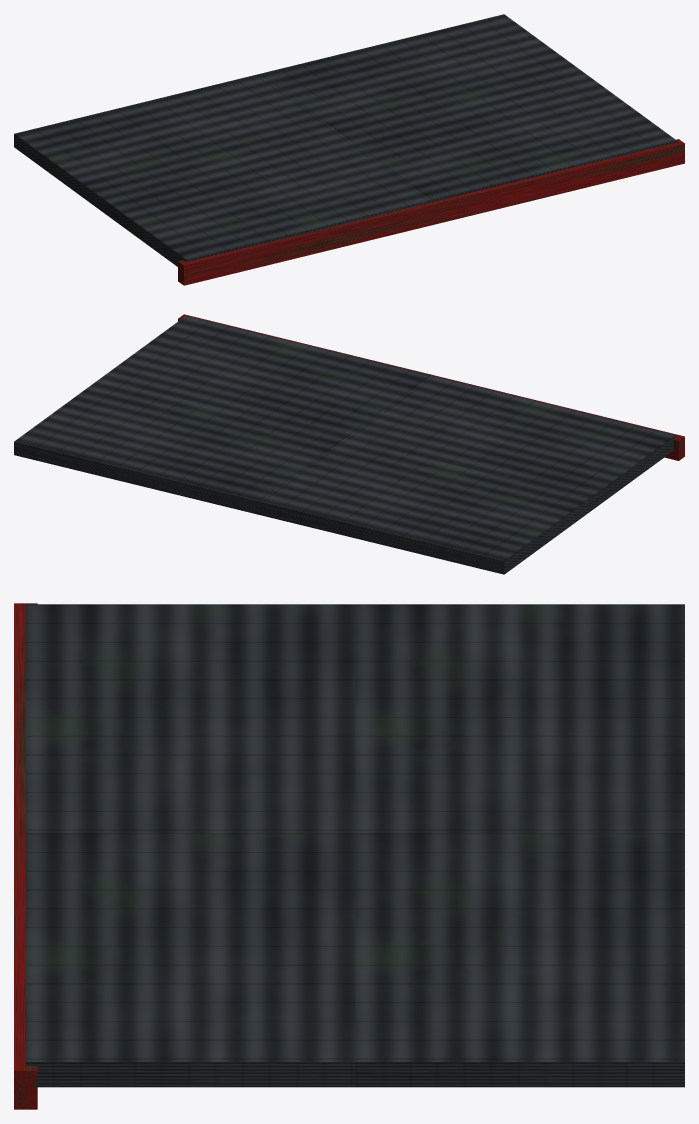
Rendered from roof_seg.glb.
The picture shows the model from 3 angles, top to bottom: view 1: azimuth 30°, elevation 25°; view 2: azimuth 150°, elevation 25°; view 3: azimuth 270°, elevation 25°; orthographic projection. The views are drawn at different scales.
Visible parts, largest first — view 1: Slab, Fascia; view 2: Slab, Fascia; view 3: Slab, Fascia.
Boxes of the visible parts, x1,y1,x2,y2 form: Slab: [14, 14, 676, 266]; Fascia: [178, 139, 684, 285]; Slab: [14, 315, 676, 574]; Fascia: [178, 314, 684, 460]; Slab: [25, 604, 684, 1087]; Fascia: [14, 603, 37, 1109].
Size of what is drawn, in the model's own units: 4.7 by 0.2 by 2.85.
2 materials, 2 textured.
